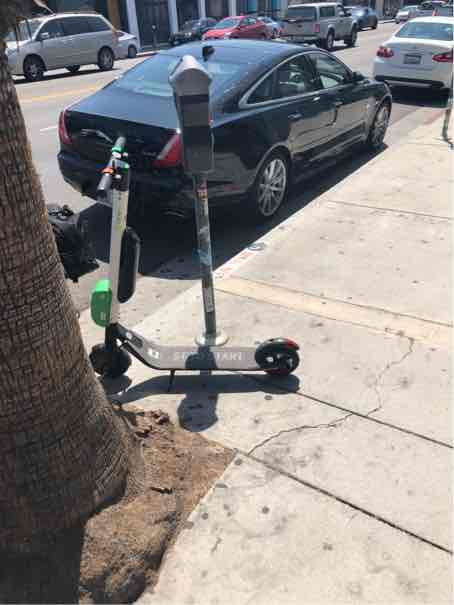scooter: (70, 117, 311, 401)
